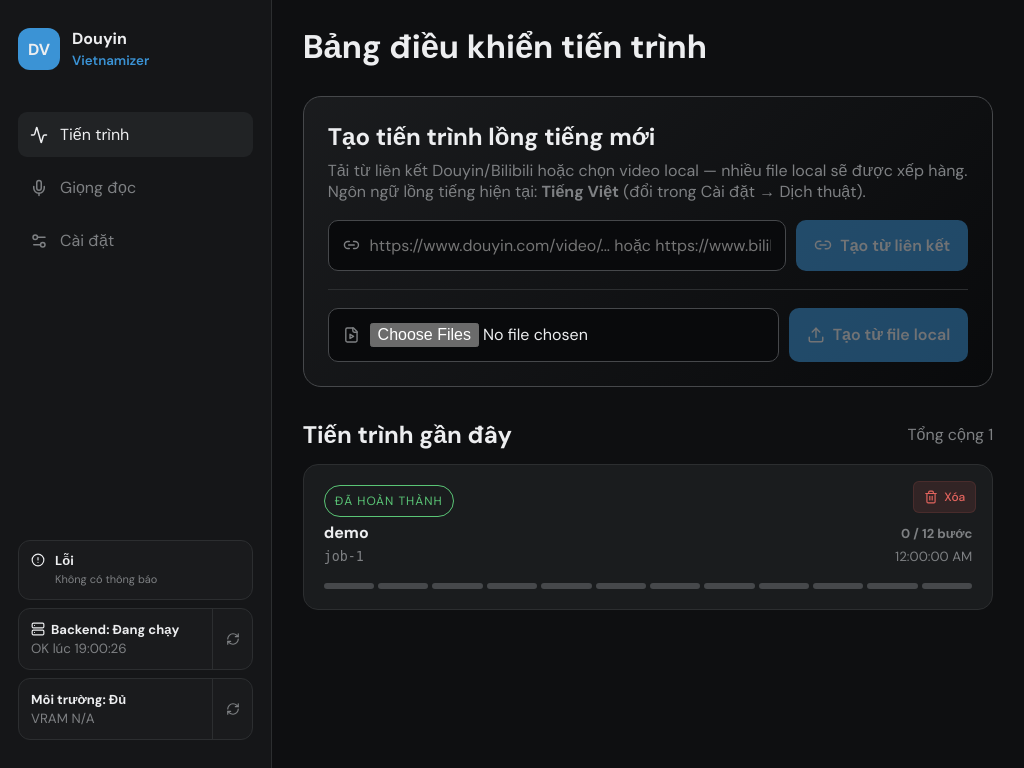
deletes completed jobs from the dashboard
Expected: the heading "demo" is shown, [324,523,369,543]
Click the button "Xóa": [945, 497] box [913,481,976,513]
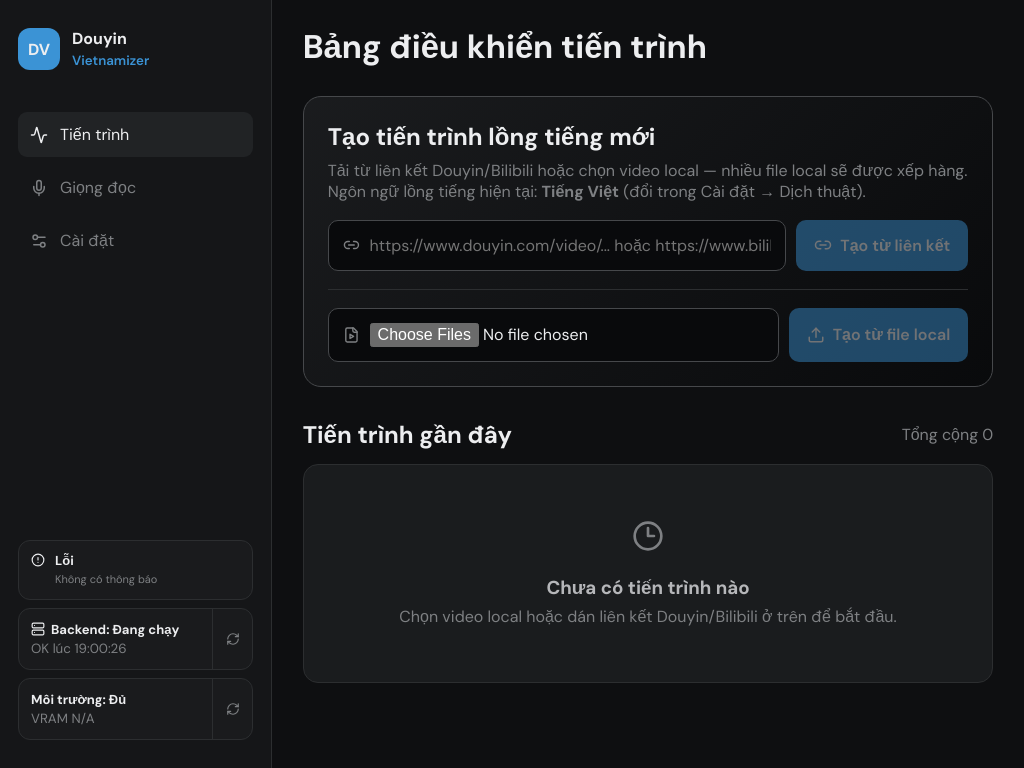
Now the heading "demo" is gone
